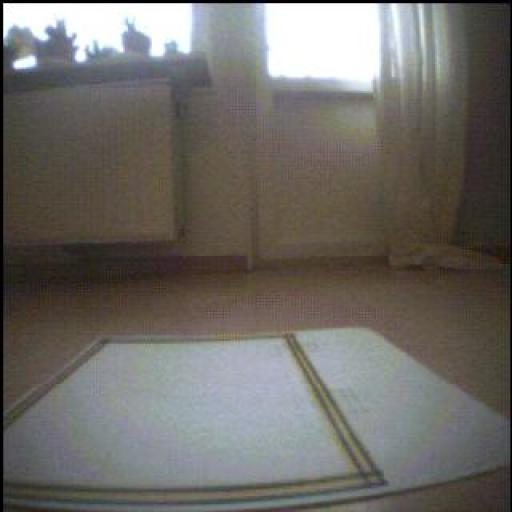Pad: (4, 331, 449, 512)
